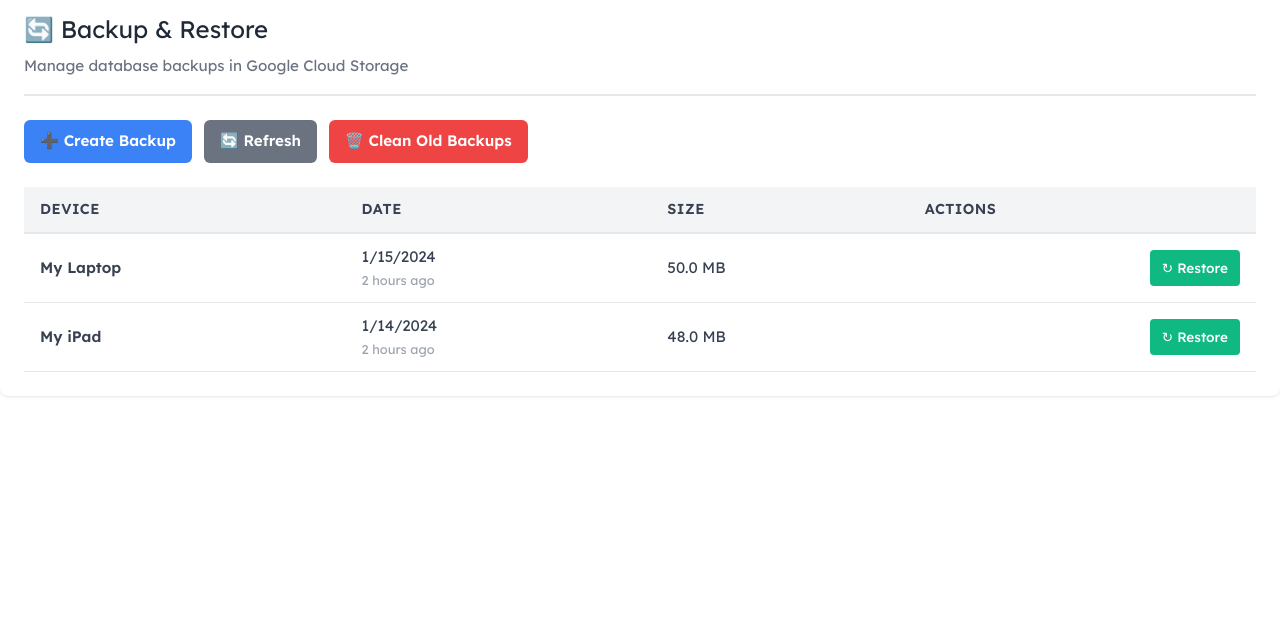
Test: BackupManager Component › should show create backup form when button clicked
Step 1. Click the button "➕ Create Backup" → (108, 141), box [24,120,192,163]
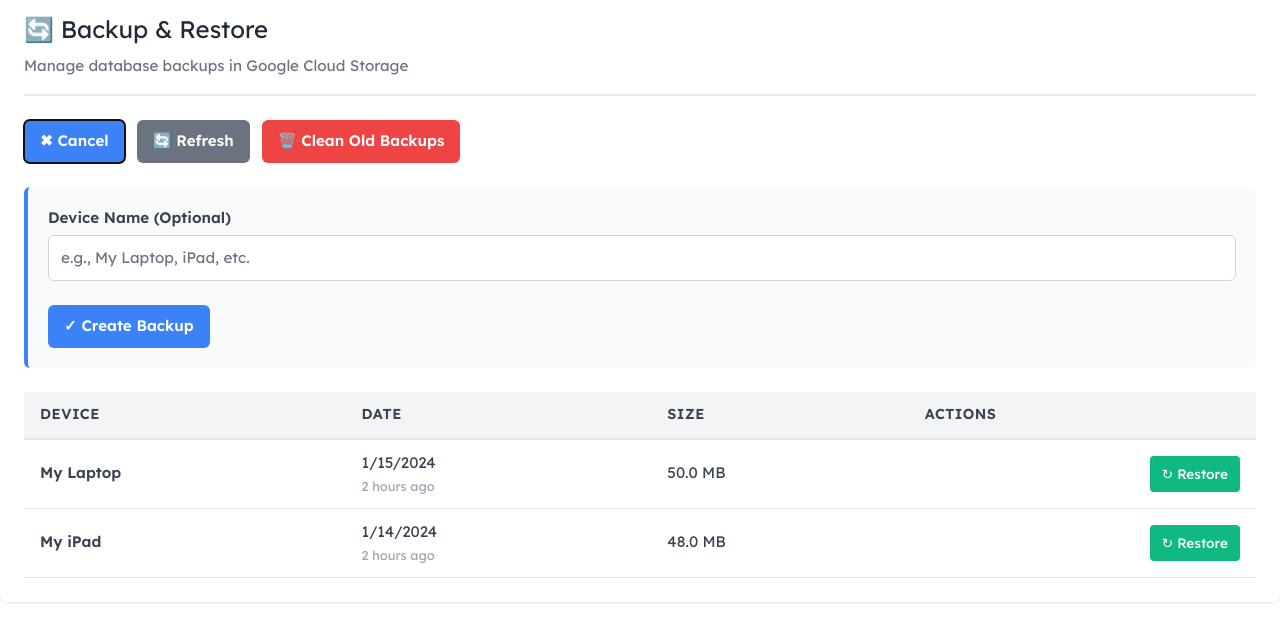
Now the field labelled "Device Name (Optional)" is shown, box [48,235,1236,281]
